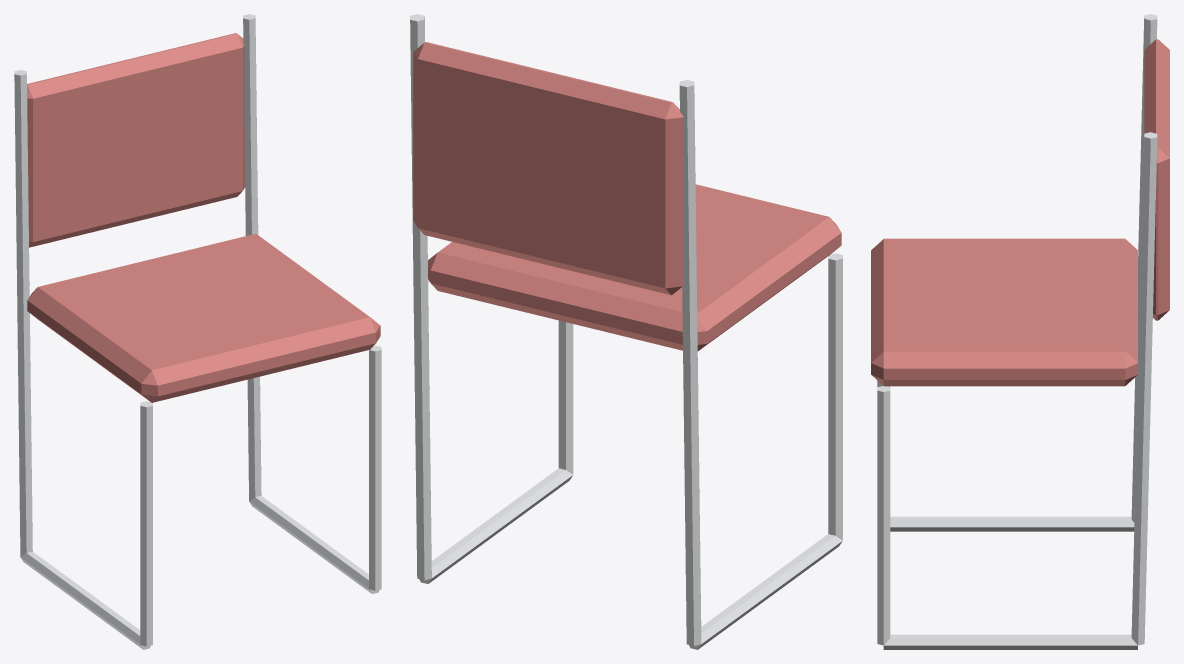
Rendered from guest_chair.glb.
The picture shows the model from 3 angles, left to right: view 1: azimuth 30°, elevation 25°; view 2: azimuth 150°, elevation 25°; view 3: azimuth 270°, elevation 25°; orthographic projection. The views are drawn at different scales.
Visible parts, largest first — view 1: guest_chair_vinyl_r, guest_chair_chrome; view 2: guest_chair_vinyl_r, guest_chair_chrome; view 3: guest_chair_vinyl_r, guest_chair_chrome.
Boxes of the visible parts, x1,y1,x2,y2 form: guest_chair_vinyl_r: [27, 33, 380, 402]; guest_chair_chrome: [14, 14, 381, 649]; guest_chair_vinyl_r: [413, 42, 841, 351]; guest_chair_chrome: [410, 14, 842, 649]; guest_chair_vinyl_r: [871, 39, 1169, 386]; guest_chair_chrome: [877, 14, 1157, 649].
Bounding box in the file's own units: 0.464 × 0.8906 × 0.47.
